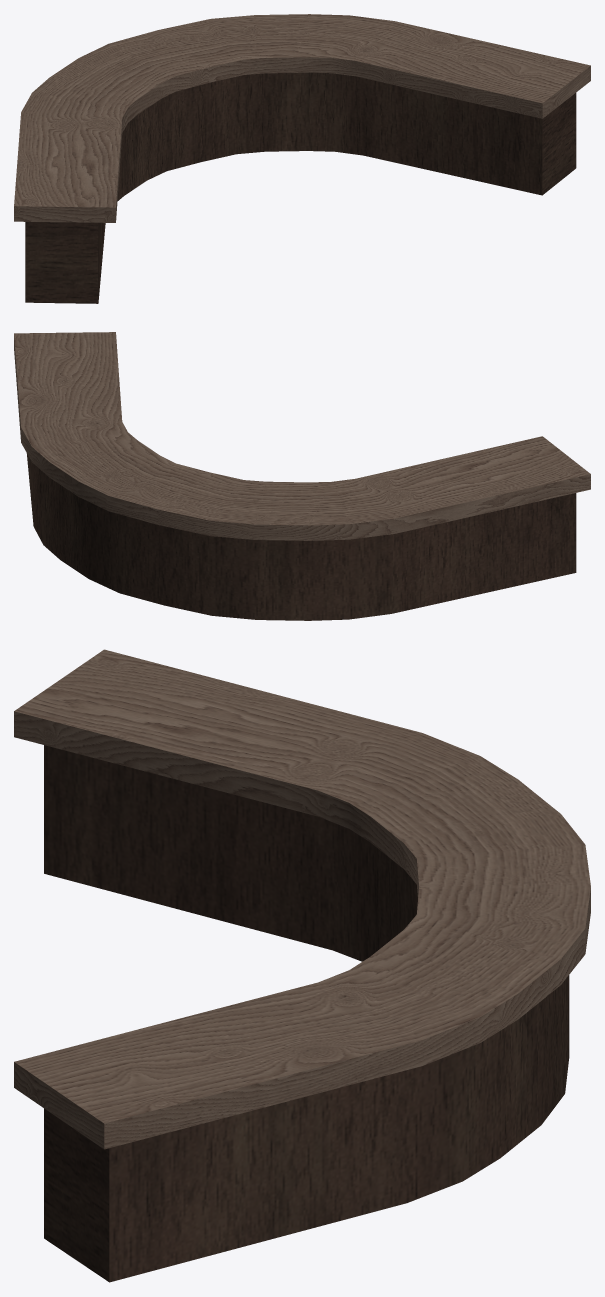
File: SM_Table.glb
The picture shows the model from 3 angles, top to bottom: view 1: azimuth 30°, elevation 25°; view 2: azimuth 150°, elevation 25°; view 3: azimuth 270°, elevation 25°; orthographic projection. The views are drawn at different scales.
Parts seen in each view (by area): view 1: BigTable; view 2: BigTable; view 3: BigTable.
Part boxes in pixels (box(x1,y1,x2,y2)): BigTable: box(14, 14, 590, 303); BigTable: box(14, 332, 590, 620); BigTable: box(14, 649, 590, 1282).
Size of the model in its own units: 0.3937 by 0.0657 by 0.2025.
Materials: 1 (1 with a texture image).
